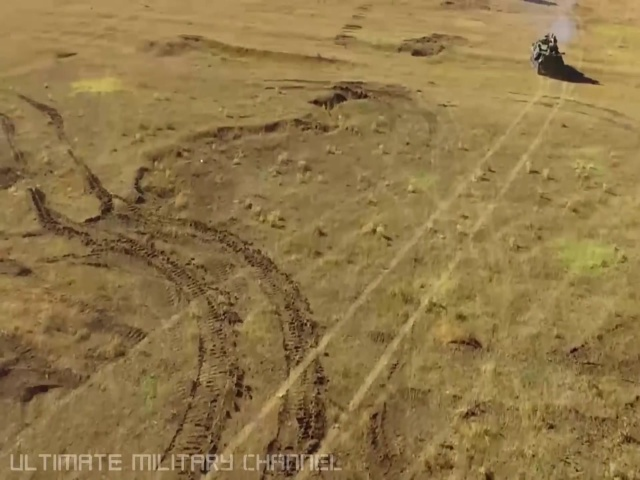vehicle: (530, 34, 568, 79)
